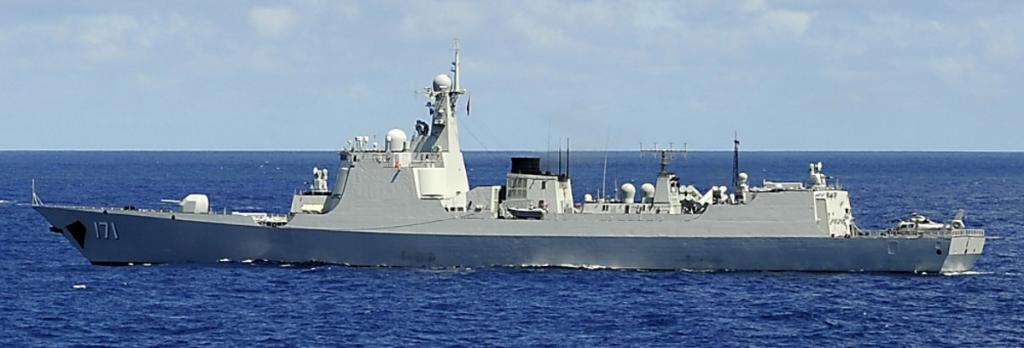Warship: (29, 42, 993, 278)
